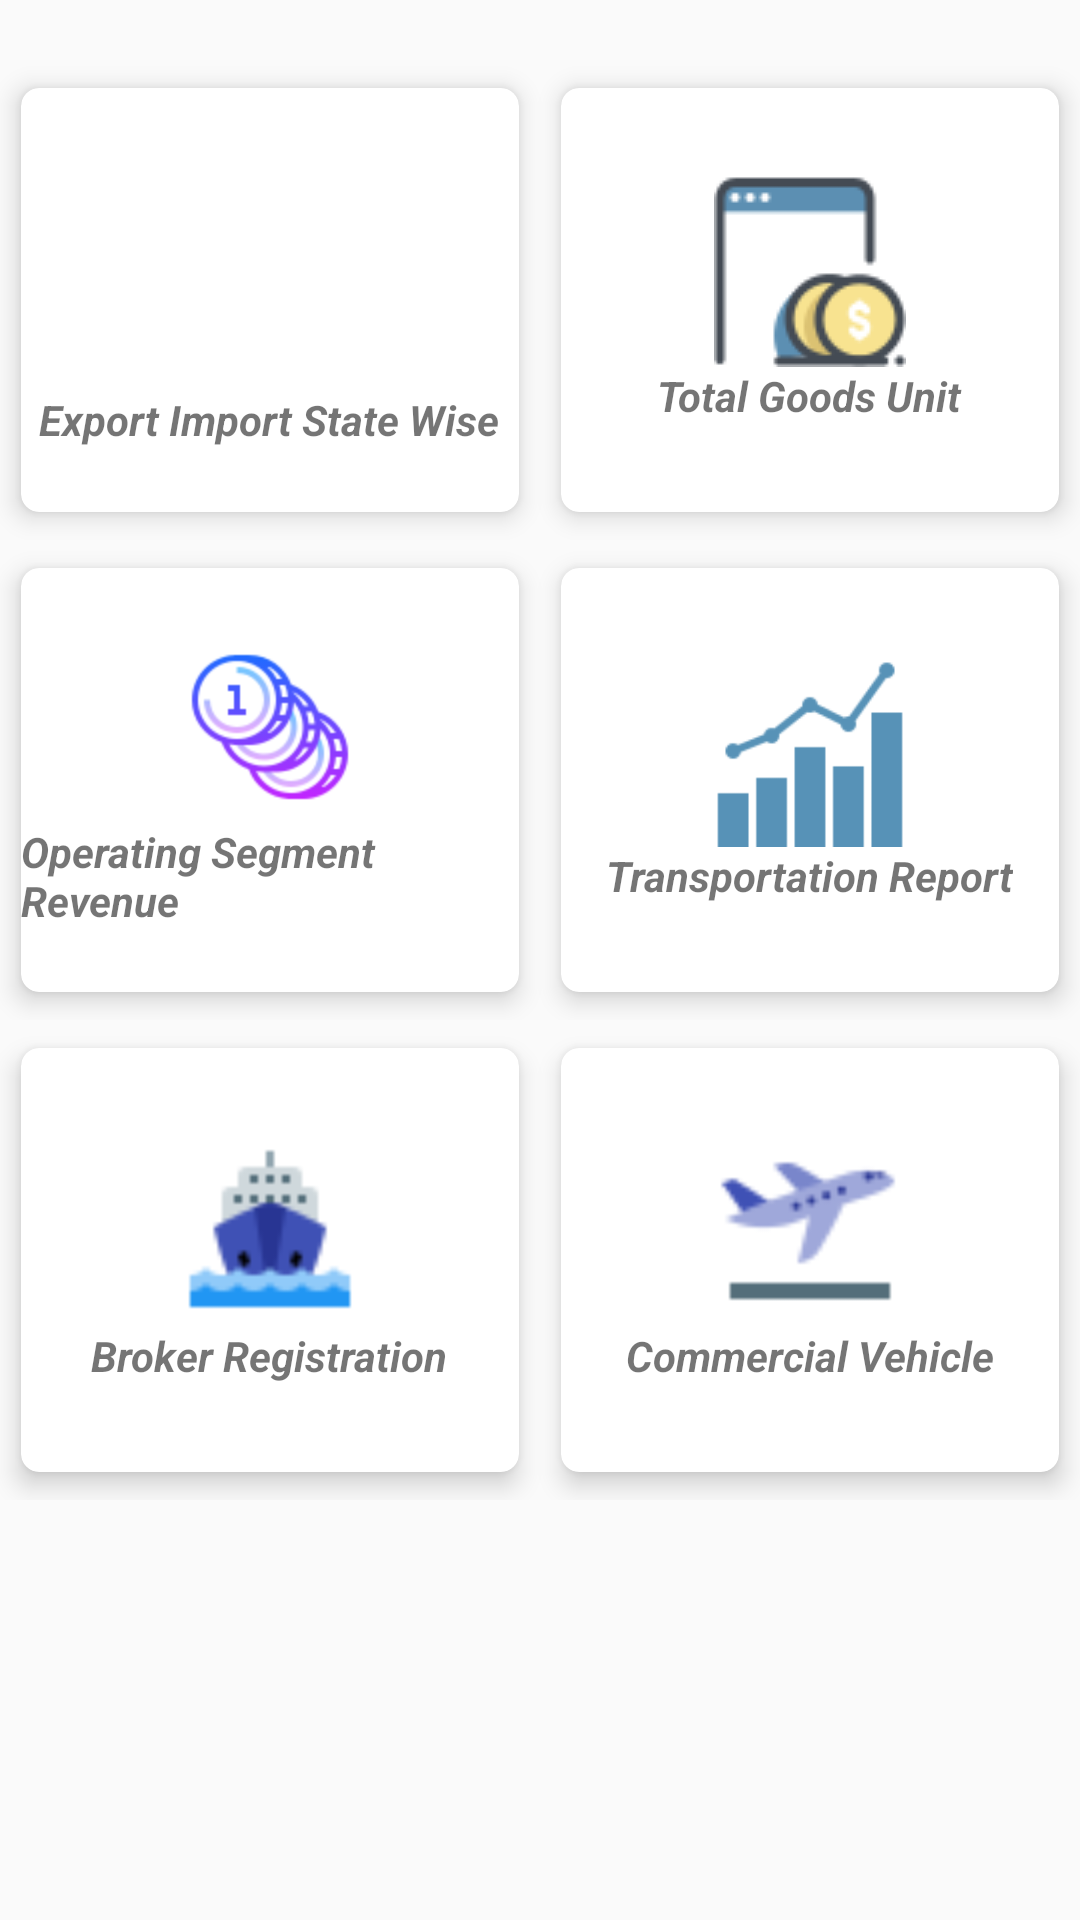

Named icons in this screenshot (1080×1920) and their centers, [x,y]:
airplane: [808,1231]
dashboard: [810,754]
sea: [270,1229]
